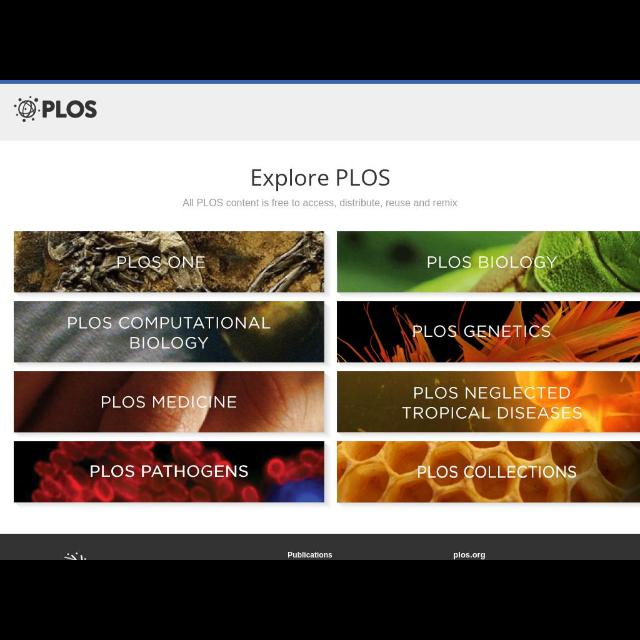backgroundimage: (13, 371, 325, 434), (13, 440, 324, 502), (13, 300, 323, 362), (337, 441, 639, 503), (14, 232, 326, 292), (338, 372, 638, 434), (337, 302, 639, 362), (338, 232, 638, 292)
image: (13, 96, 97, 122)
text: (67, 316, 270, 349), (402, 387, 582, 421), (252, 168, 390, 192), (182, 198, 458, 208), (90, 464, 248, 478), (412, 324, 550, 338), (102, 396, 238, 410), (418, 466, 576, 478), (428, 256, 556, 270), (117, 256, 206, 268), (287, 552, 333, 558), (453, 551, 485, 559)
